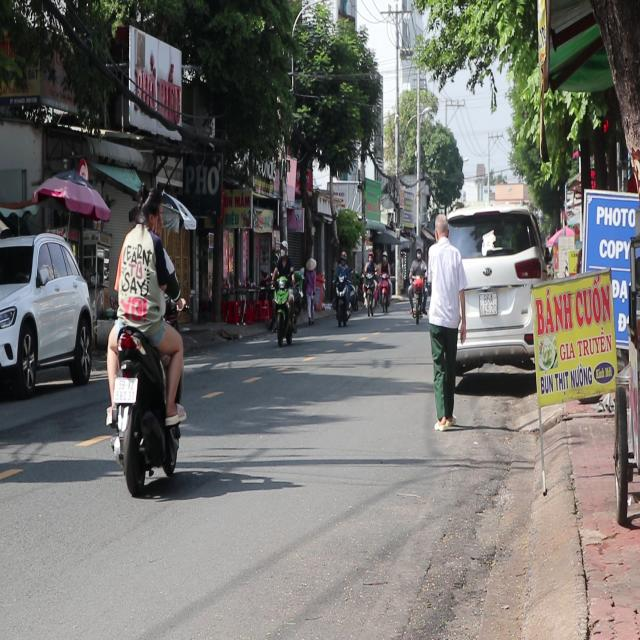licenseplate: (101, 175, 188, 495)
motorcyclist: (140, 185, 163, 233)
nohelmet: (114, 376, 138, 404)
